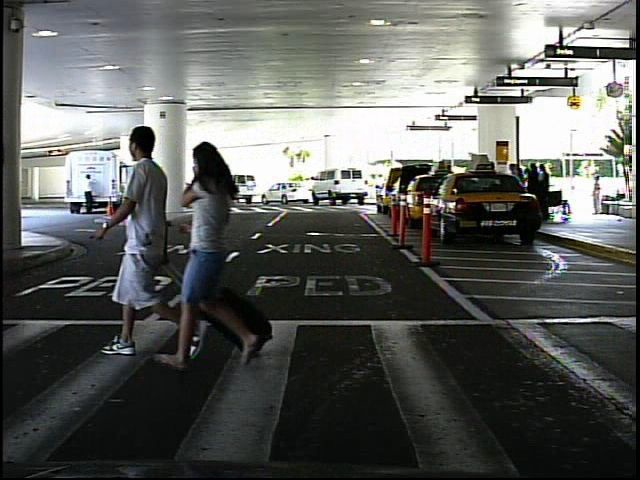person: (182, 132, 275, 378), (108, 109, 190, 364), (78, 171, 97, 221), (588, 172, 607, 218)
